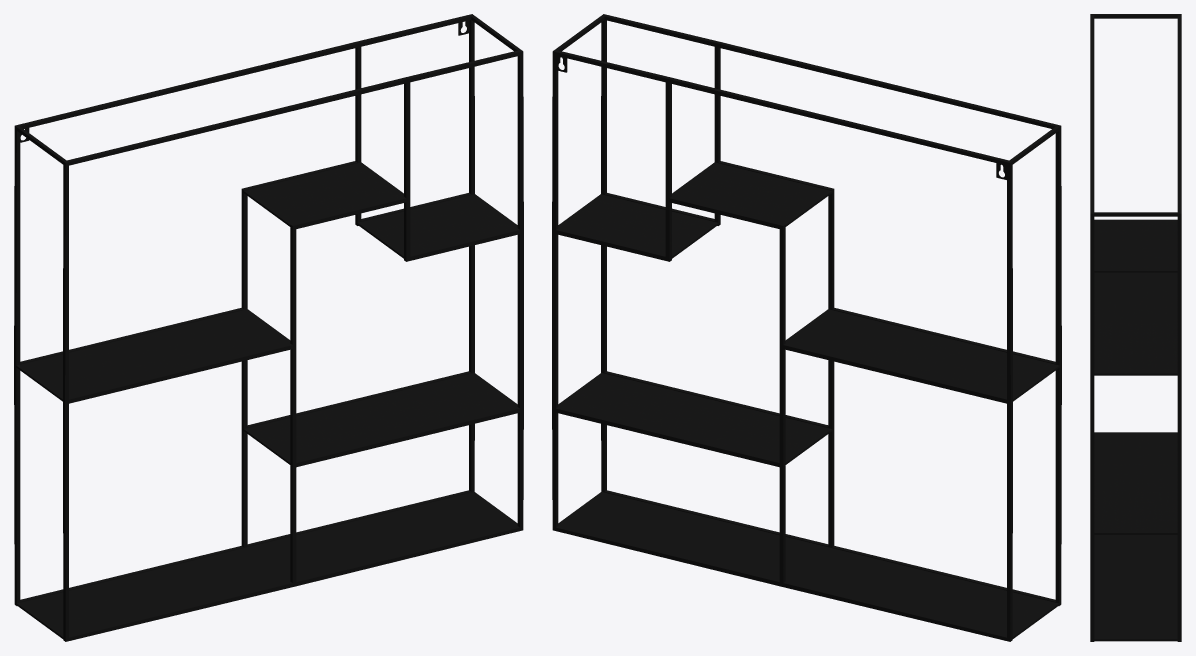
The model's file is black_steel_shelf_interior_design.glb.
The picture shows the model from 3 angles, left to right: view 1: azimuth 30°, elevation 25°; view 2: azimuth 150°, elevation 25°; view 3: azimuth 270°, elevation 25°; orthographic projection. The views are drawn at different scales.
Visible parts, largest first — view 1: Object_2; view 2: Object_2; view 3: Object_2.
Boxes of the visible parts, bbox=[...] form: Object_2: bbox=[14, 14, 523, 641]; Object_2: bbox=[552, 14, 1061, 641]; Object_2: bbox=[1090, 14, 1181, 641].
Bounding box in the file's own units: 0.706 × 0.706 × 0.136.
1 material, 1 textured.
